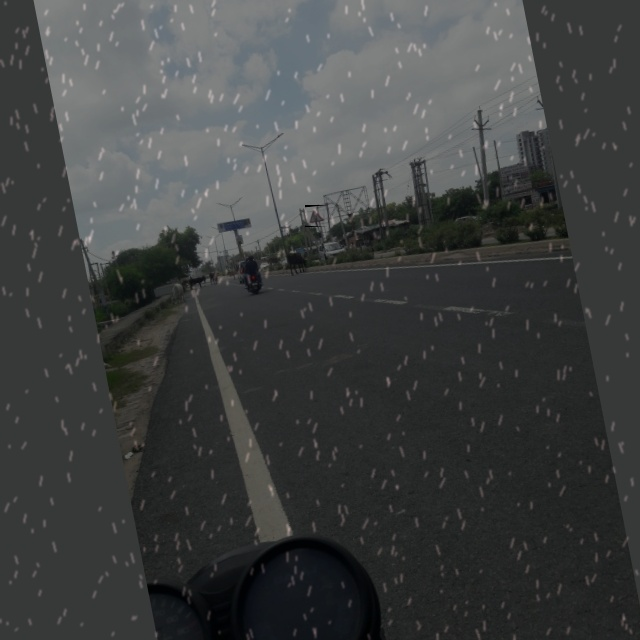Gap_in_Median: (305, 205, 328, 227)
